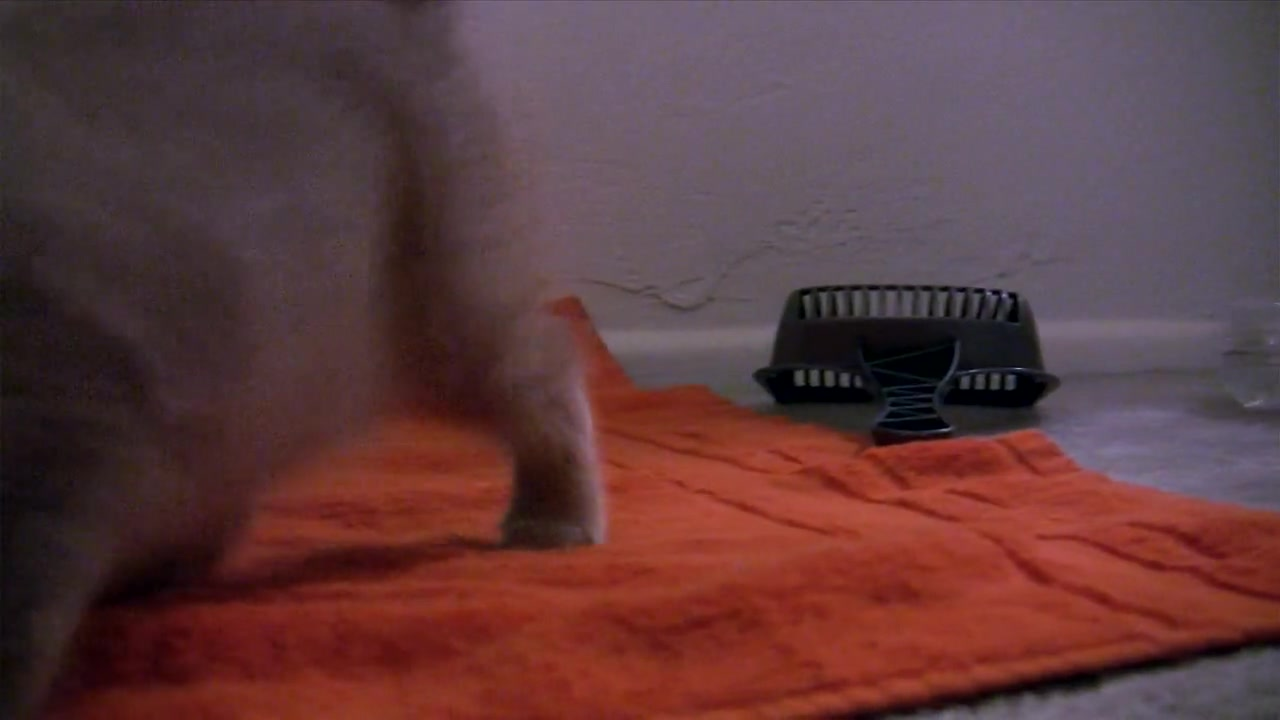cat: (1, 1, 614, 716)
